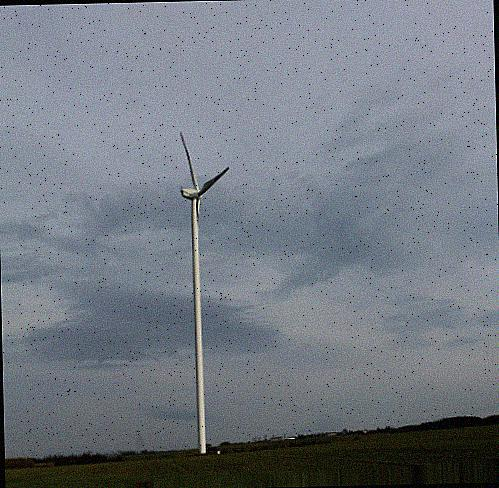wind turbine: (176, 128, 232, 452)
